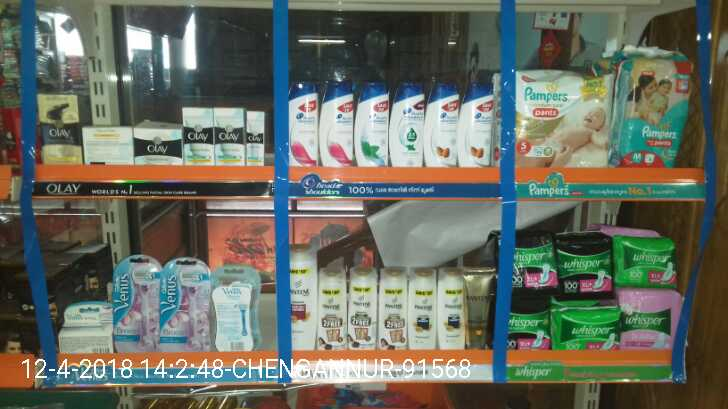venus: (163, 255, 212, 352), (115, 255, 163, 350), (212, 264, 259, 352), (60, 304, 115, 350)
